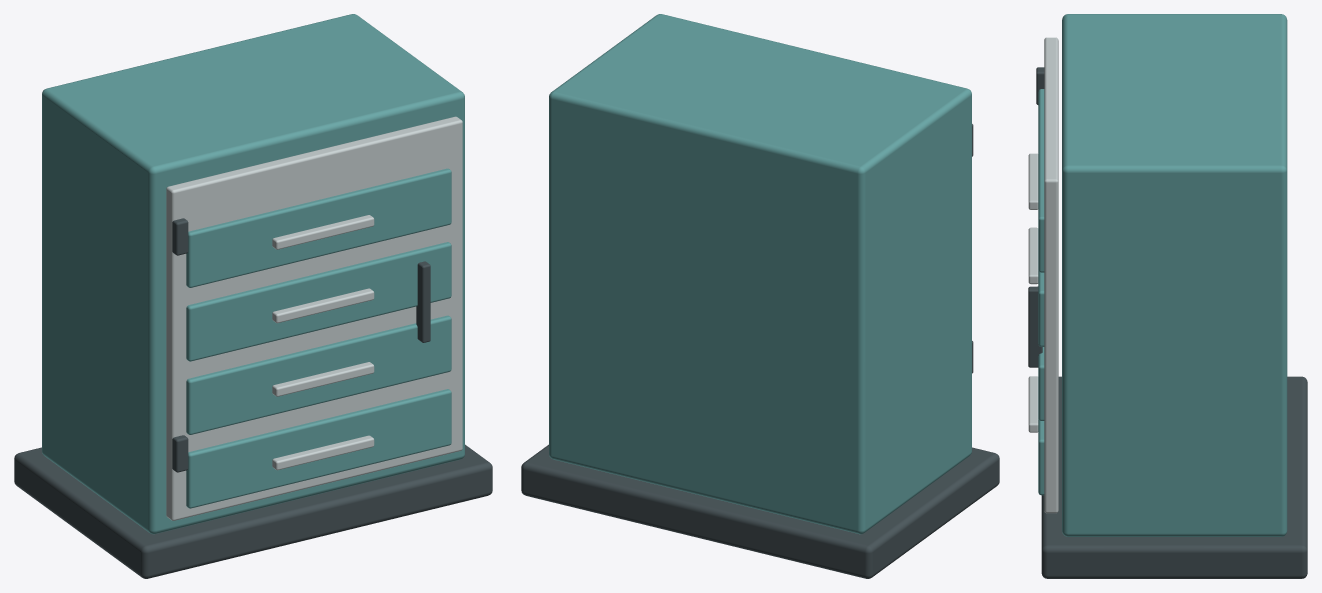
File: hydroelectric-dam-infiltration-tool-cabinet-7f23fb90__29359.glb
3 views of the same model, side by side, from view 1: azimuth 30°, elevation 25°; view 2: azimuth 150°, elevation 25°; view 3: azimuth 270°, elevation 25° (orthographic).
Parts seen in each view (by area): view 1: tool-cabinet; view 2: tool-cabinet; view 3: tool-cabinet.
Boxes of the visible parts, box(x1,y1,x2,y2) form: tool-cabinet: box(14, 14, 492, 578); tool-cabinet: box(521, 14, 999, 578); tool-cabinet: box(1028, 14, 1307, 578).
Bounding box in the file's own units: 1 × 1.09 × 0.6825.
